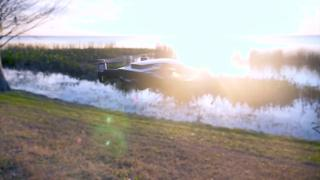UAV: (94, 54, 194, 91)
